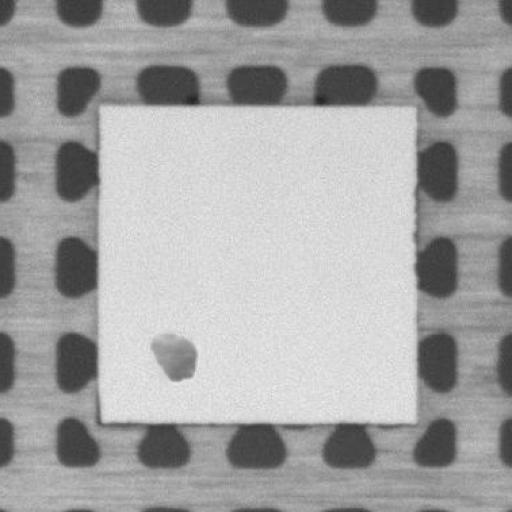DIE_INK: (138, 320, 205, 392)
